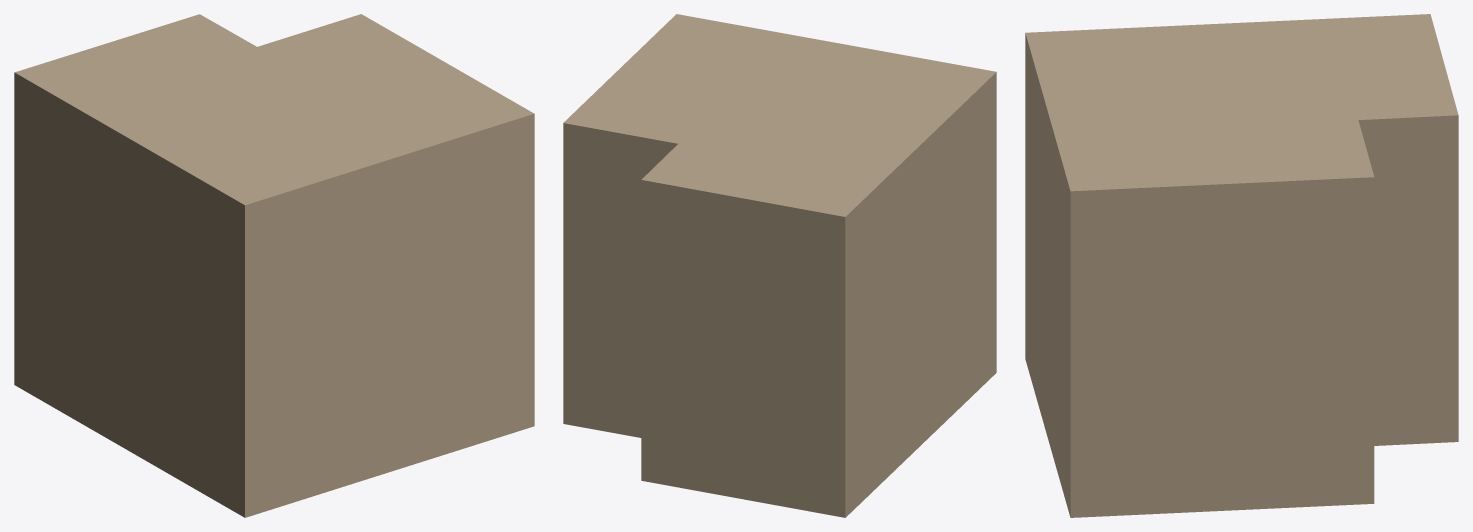
Rendered from bld_109053841.dae.
3 views of the same model, side by side, from view 1: azimuth 30°, elevation 25°; view 2: azimuth 150°, elevation 25°; view 3: azimuth 270°, elevation 25° (orthographic). The views are drawn at different scales.
Visible parts, largest first — view 1: bld_109053841; view 2: bld_109053841; view 3: bld_109053841.
Boxes of the visible parts, x1,y1,x2,y2 form: bld_109053841: [14, 14, 534, 517]; bld_109053841: [563, 14, 996, 517]; bld_109053841: [1025, 14, 1458, 517].
Bounding box in the file's own units: 9.31 × 9.61 × 8.
